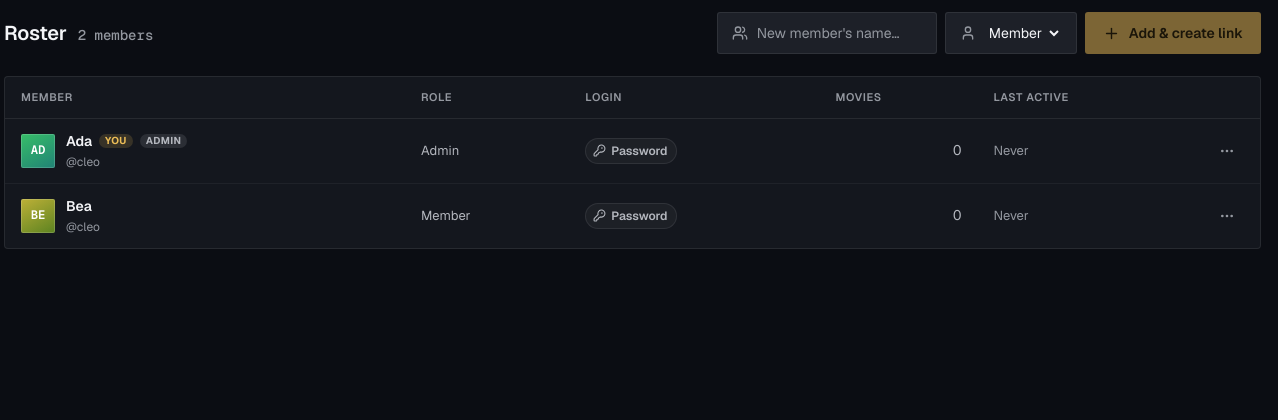
Test: opening a ceremony from a member's row › does not offer removing the last active admin
The width and height of the screenshot is (1278, 420).
Click the button named "Actions for Ada": (1227, 150) [1210,134,1244,168]
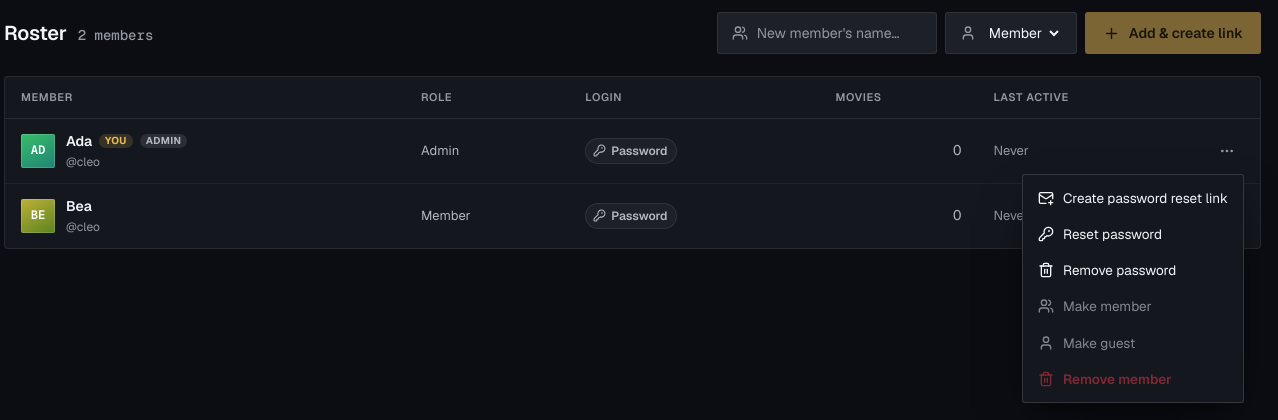
Expected: the menu item "Remove member" is disabled, [1028,361,1238,397]
